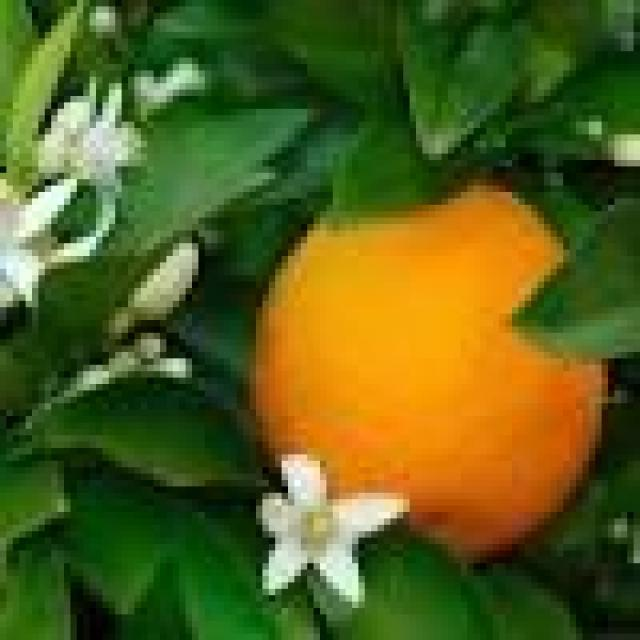Bunga: (256, 454, 410, 602), (0, 172, 102, 313), (39, 77, 148, 192)
Jeruk Sudah Matang: (250, 172, 614, 570)
